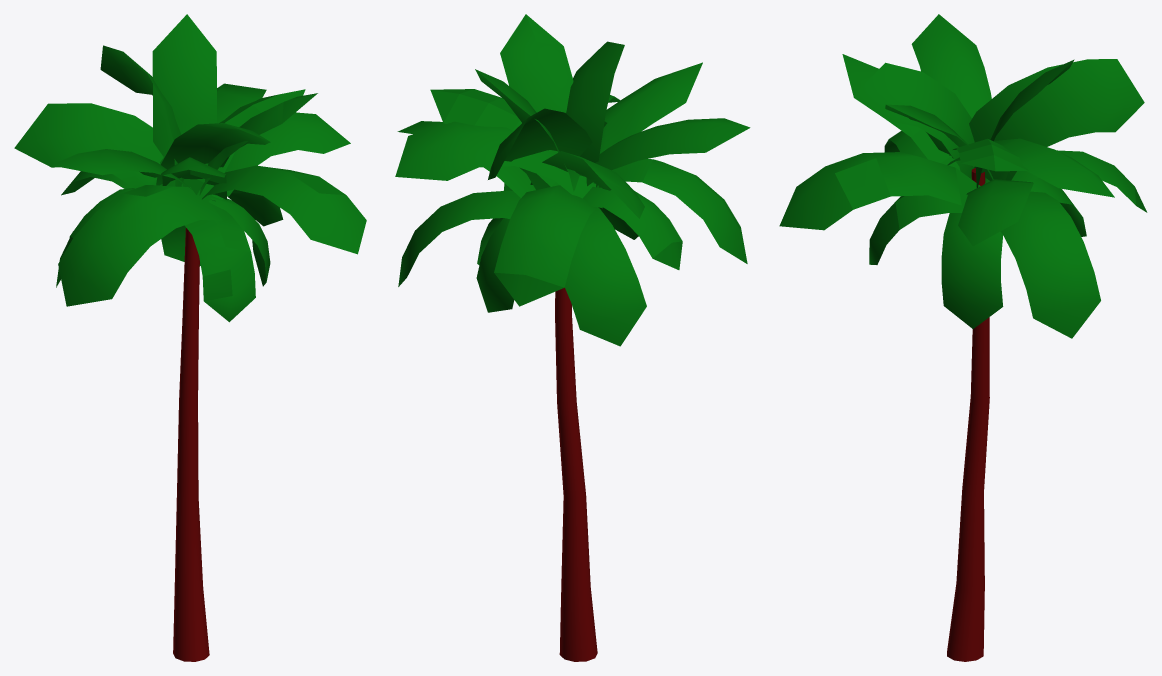
Rendered from Palm-03.fbx.
The picture shows the model from 3 angles, left to right: view 1: azimuth 30°, elevation 25°; view 2: azimuth 150°, elevation 25°; view 3: azimuth 270°, elevation 25°; orthographic projection. The views are drawn at different scales.
Parts seen in each view (by area): view 1: palm-03; view 2: palm-03; view 3: palm-03.
Part boxes in pixels (<box>): palm-03: <box>14,14,366,661</box>; palm-03: <box>395,14,750,661</box>; palm-03: <box>779,14,1147,661</box>.
Size of what is drawn, in the model's own units: 3.72 by 6.63 by 3.57.
